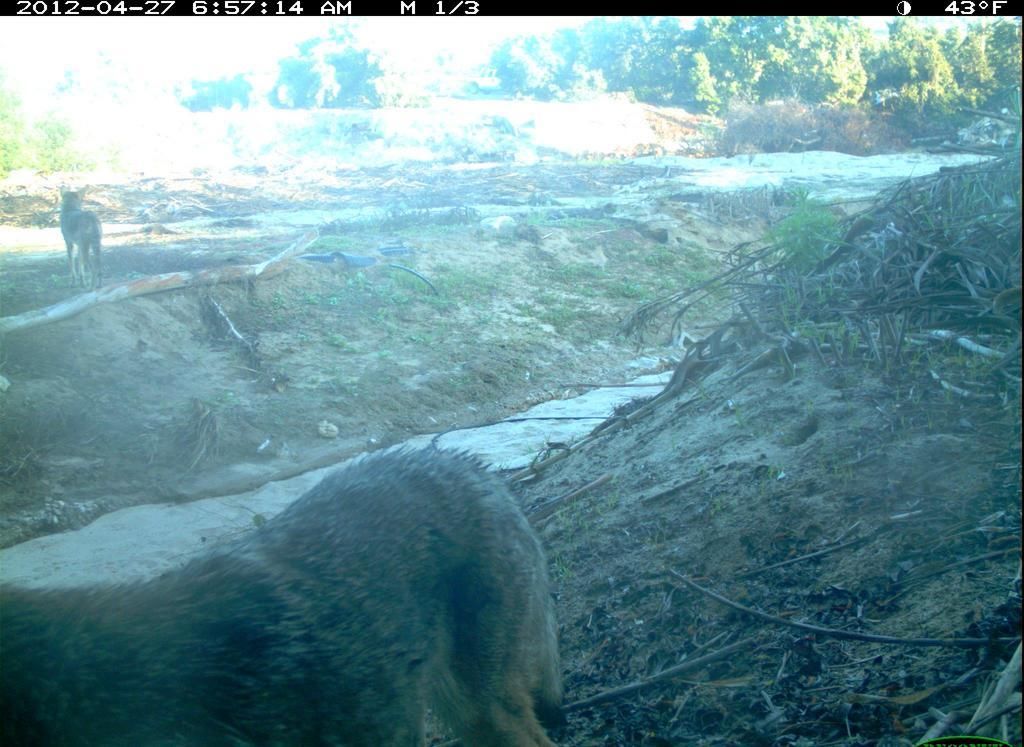coyote: (6, 423, 581, 747), (56, 181, 108, 293)
